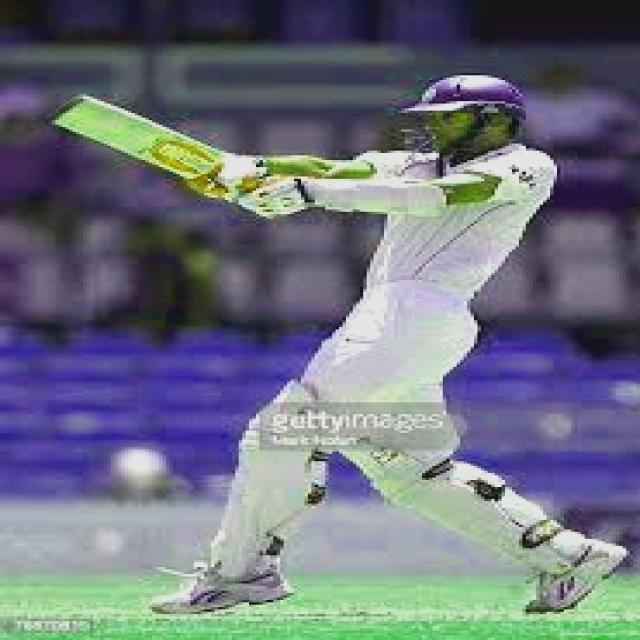toe: (44, 91, 87, 128)
